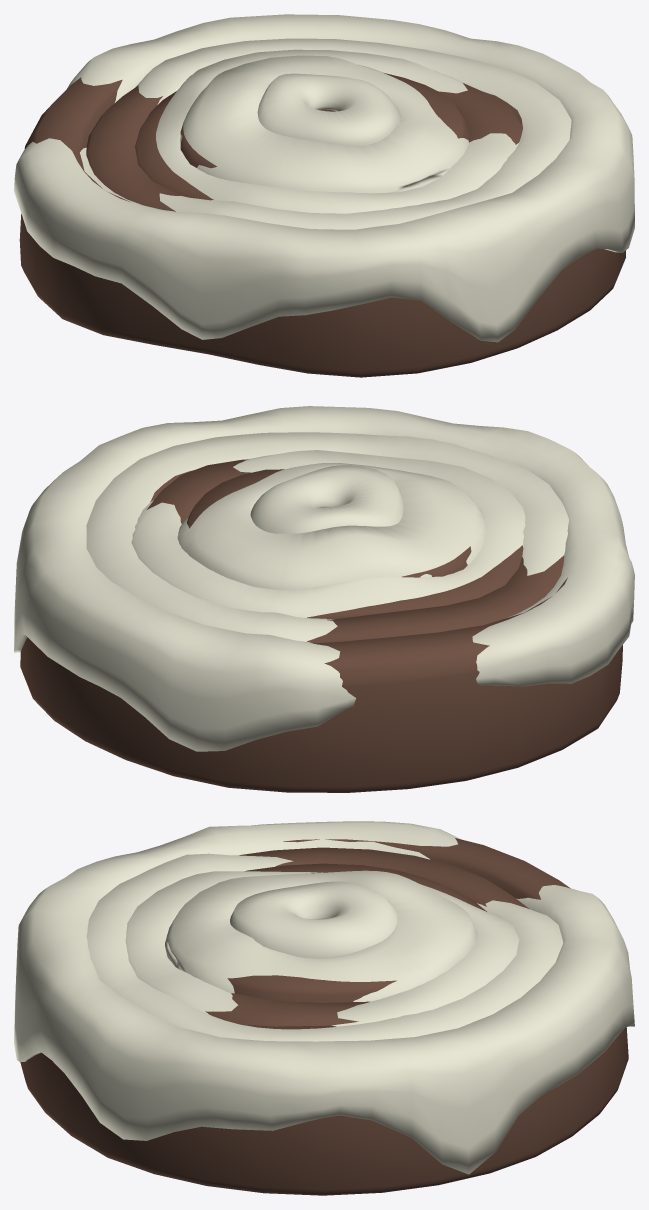
The model's file is cinamon roll.fbx.
The picture shows the model from 3 angles, top to bottom: view 1: azimuth 30°, elevation 25°; view 2: azimuth 150°, elevation 25°; view 3: azimuth 270°, elevation 25°; orthographic projection. The views are drawn at different scales.
Visible parts, largest first — view 1: Circle.005, Circle.001; view 2: Circle.005, Circle.001; view 3: Circle.005, Circle.001.
Boxes of the visible parts, x1,y1,x2,y2 form: Circle.005: (14,14,634,342); Circle.001: (19,73,625,377); Circle.005: (14,406,634,751); Circle.001: (20,459,622,792); Circle.005: (14,821,634,1174); Circle.001: (20,838,628,1195).
Bounding box in the file's own units: 4.15 × 1.24 × 4.09.
